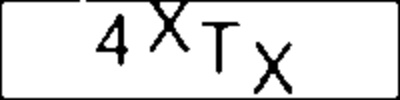4: (94, 9, 134, 70)
T: (196, 17, 243, 76)
X: (143, 1, 197, 61), (245, 40, 296, 98)
